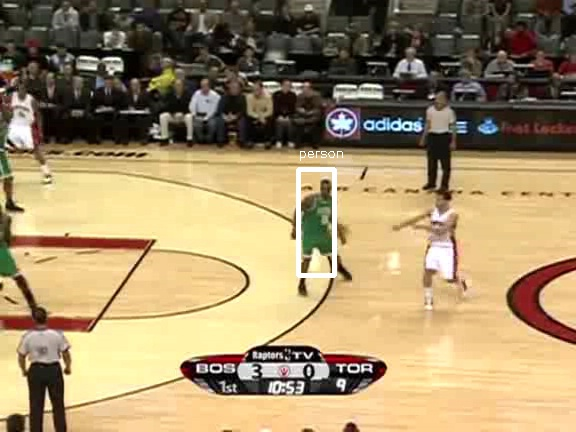person: (304, 188, 338, 269), (303, 188, 337, 269), (305, 188, 339, 269), (304, 187, 338, 268), (304, 189, 338, 270)
target_negative: (235, 123, 538, 226), (159, 115, 259, 316), (120, 251, 351, 326), (451, 19, 502, 254), (19, 356, 237, 401), (434, 404, 447, 409)
